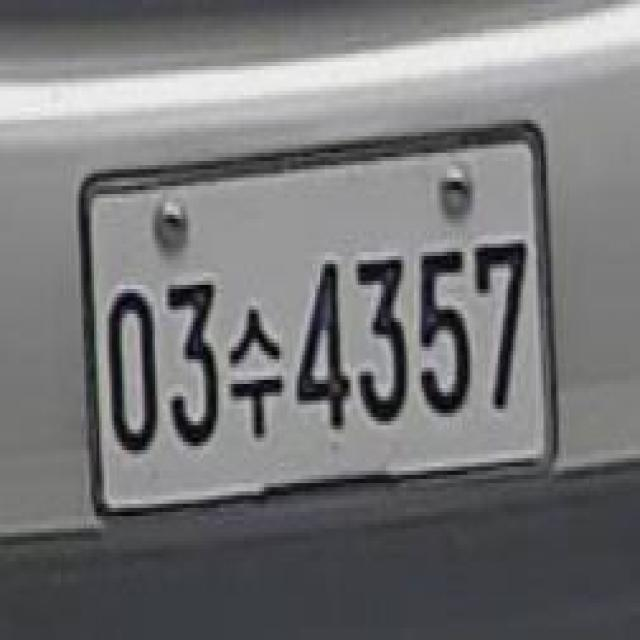illegal_plate: (78, 114, 561, 542)
